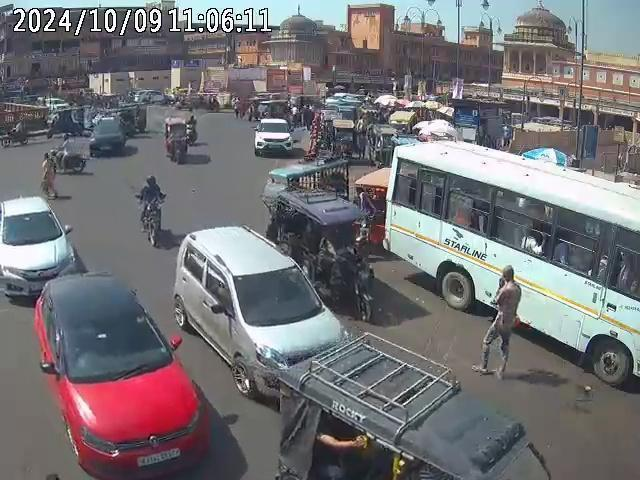auto: (280, 340, 553, 480), (269, 186, 368, 275), (163, 115, 190, 162)
bus: (383, 137, 640, 383)
car: (30, 271, 215, 479), (171, 225, 347, 405), (0, 193, 74, 304), (253, 117, 296, 157), (88, 115, 128, 155)
license_plate: (136, 447, 184, 467)
motorbike: (320, 237, 375, 320)
motorbike-rider: (136, 174, 167, 245), (54, 135, 86, 175), (1, 116, 30, 148)
person: (486, 264, 522, 378), (38, 149, 59, 199)
